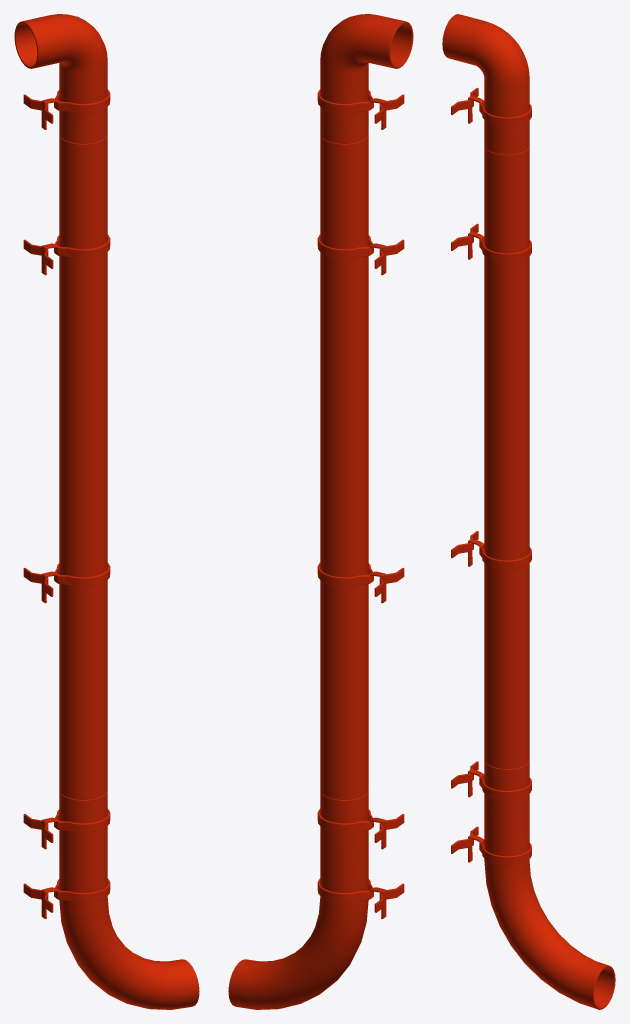
3 renders of one model, left to right at view 1: azimuth 30°, elevation 25°; view 2: azimuth 150°, elevation 25°; view 3: azimuth 330°, elevation 25°, orthographic. The views are drawn at different scales.
Parts seen in each view (by area): view 1: tube_1, tube_2, tube_3; view 2: tube_1, tube_2, tube_3; view 3: tube_1, tube_2, tube_3.
Boxes of the visible parts, x1,y1,x2,y2 form: tube_1: [23, 135, 110, 799]; tube_2: [23, 791, 199, 1009]; tube_3: [14, 14, 110, 143]; tube_1: [317, 135, 404, 799]; tube_2: [228, 791, 404, 1009]; tube_3: [317, 14, 413, 143]; tube_1: [451, 145, 531, 768]; tube_2: [451, 759, 615, 1009]; tube_3: [442, 14, 531, 154].
Bounding box in the file's own units: 0.7731 × 4.67 × 0.2333.
